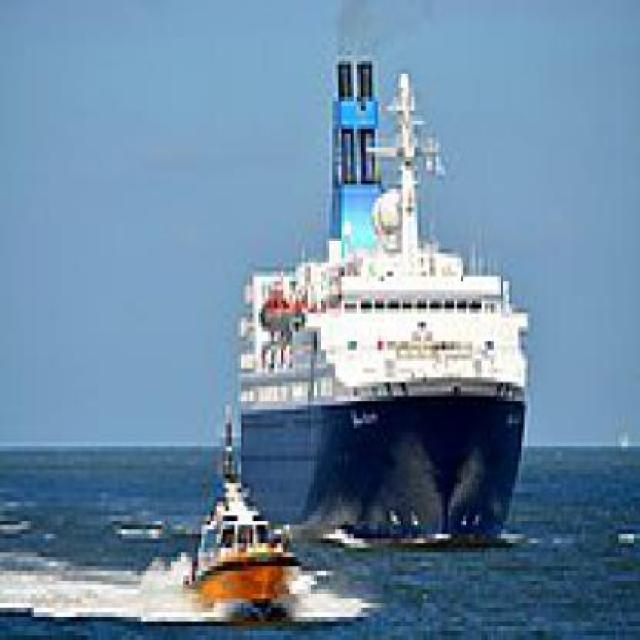cruise: (227, 43, 541, 563)
